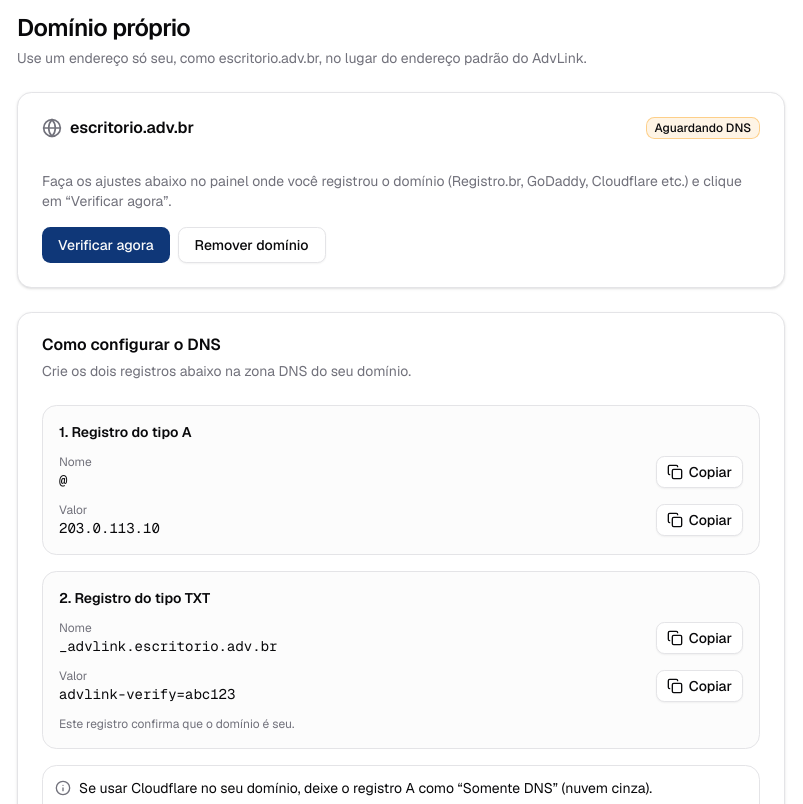
Test: DominioClient › shows the explanation returned by verify
Click the button "Verificar agora": (106, 245) [42,227,170,263]
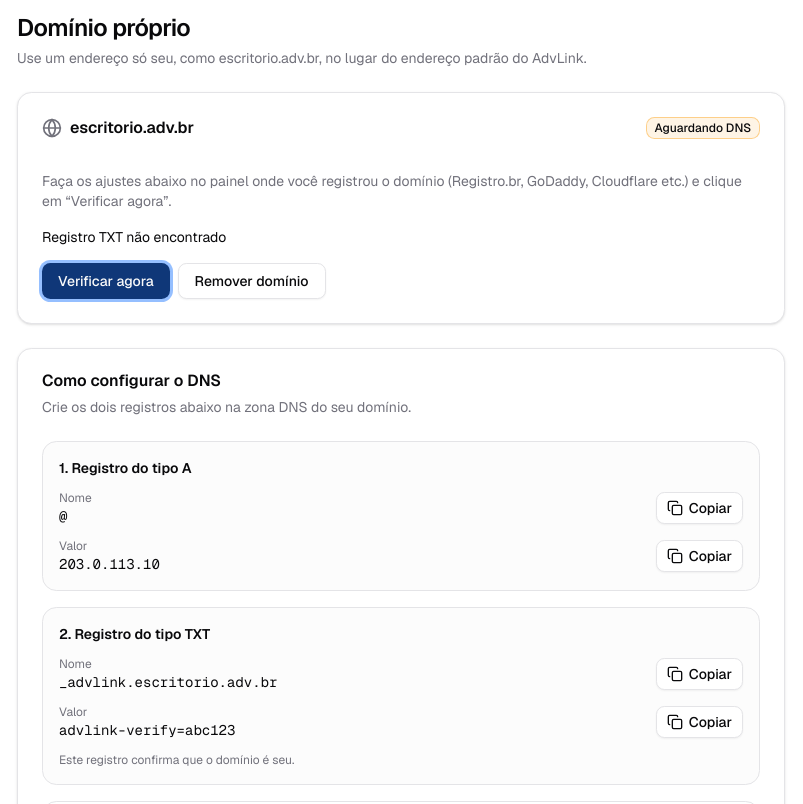
Now the text "Registro TXT não encontrado" is shown, box [42,228,226,246]
